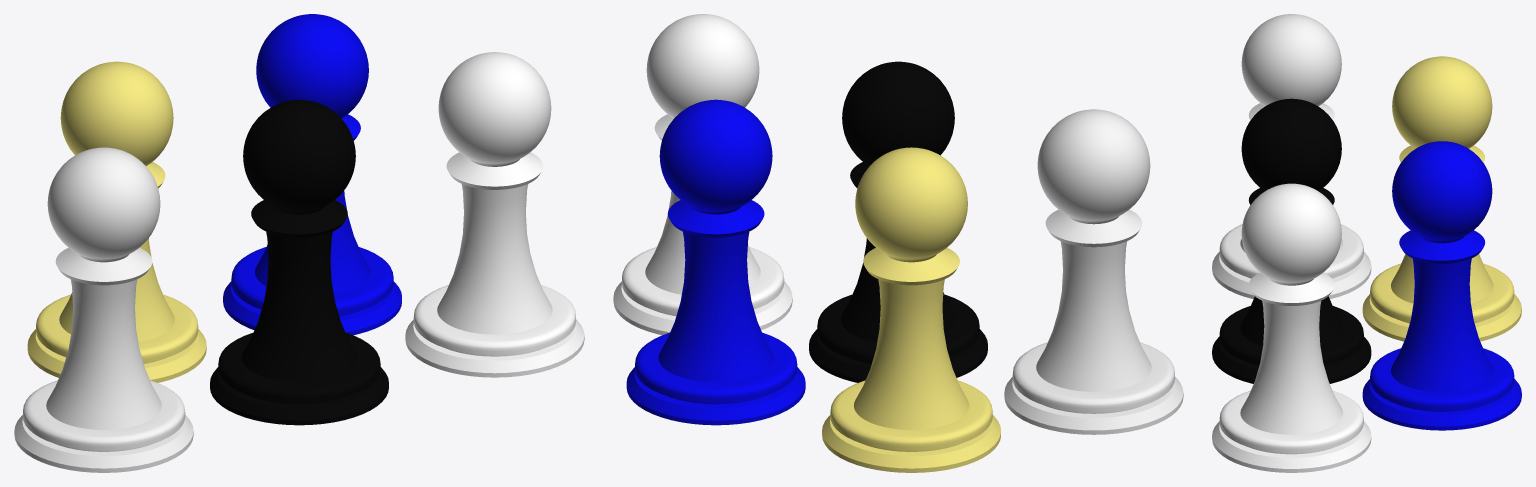
3 renders of one model, left to right at view 1: azimuth 30°, elevation 25°; view 2: azimuth 150°, elevation 25°; view 3: azimuth 270°, elevation 25°, orthographic. The views are drawn at different scales.
Visible parts, largest first — view 1: Mirror Pawn, Black Pawn, White Pawn, Gold Pawn, Blue Pawn; view 2: White Pawn, Gold Pawn, Blue Pawn, Black Pawn, Mirror Pawn; view 3: Blue Pawn, Mirror Pawn, Gold Pawn, Black Pawn, White Pawn.
Part boxes in pixels (x1,y1,x2,y2): Mirror Pawn: [405, 52, 584, 377]; Black Pawn: [210, 99, 388, 425]; White Pawn: [14, 147, 193, 472]; Gold Pawn: [27, 61, 206, 382]; Blue Pawn: [223, 14, 401, 335]; White Pawn: [1004, 109, 1183, 434]; Gold Pawn: [822, 147, 1000, 472]; Blue Pawn: [626, 99, 805, 425]; Black Pawn: [809, 61, 987, 382]; Mirror Pawn: [613, 14, 792, 335]; Blue Pawn: [1362, 141, 1521, 430]; Mirror Pawn: [1212, 183, 1371, 472]; Gold Pawn: [1362, 56, 1521, 341]; Black Pawn: [1212, 98, 1371, 383]; White Pawn: [1212, 14, 1371, 298].
Size of the model in its own units: 2.23 by 1.1 by 1.23.
